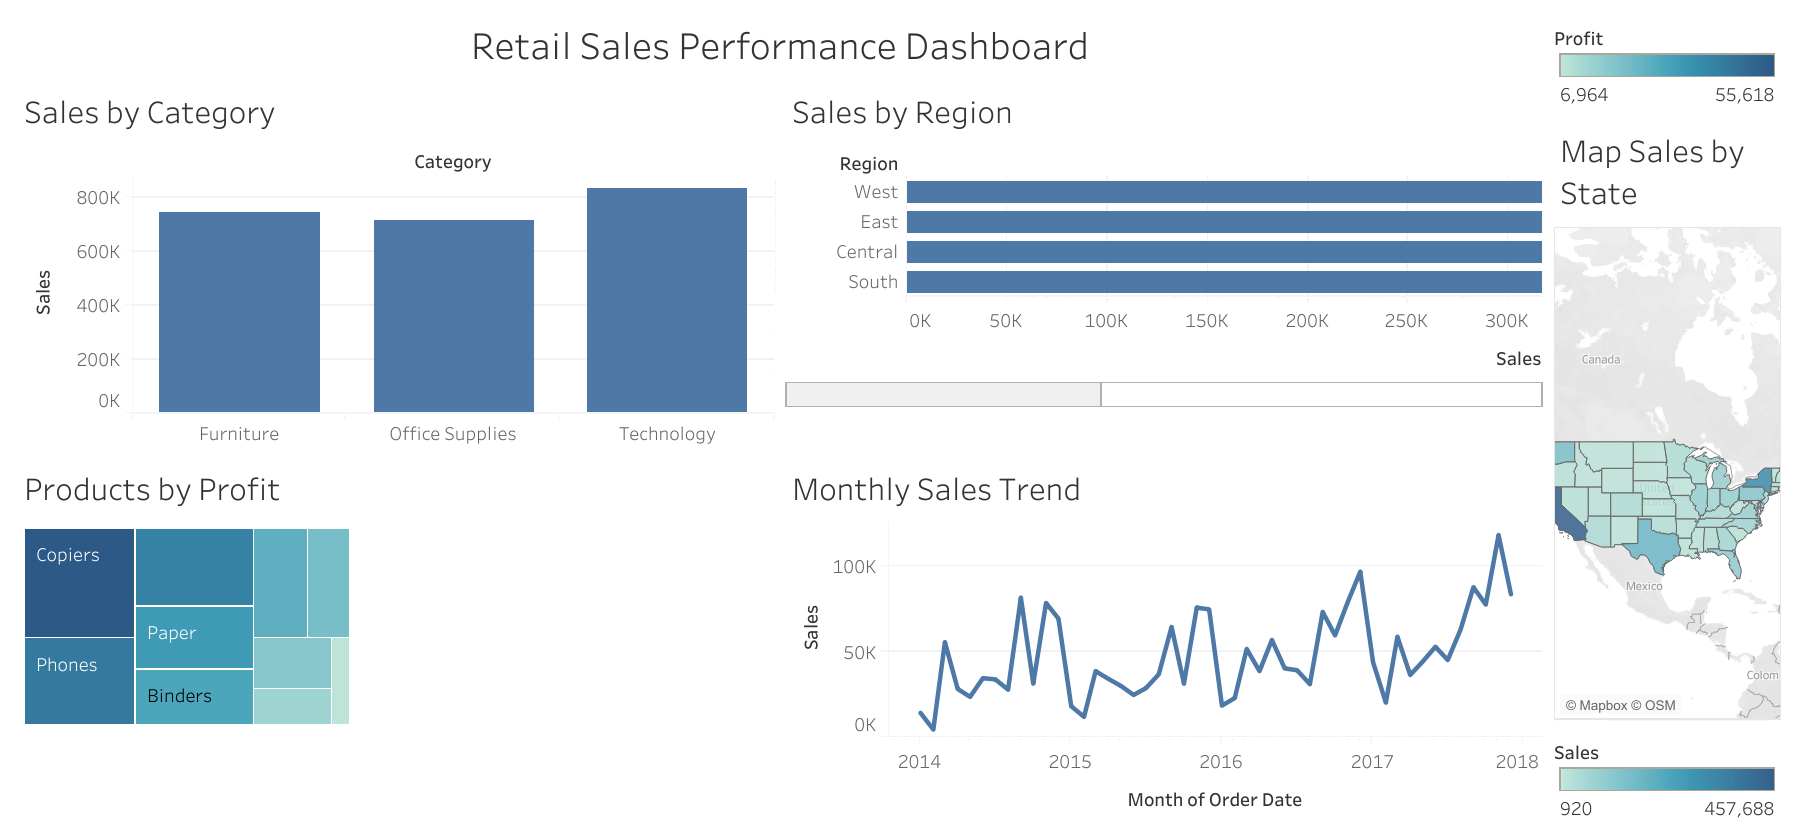

The page's visual inventory and layout, read from the dashboard file:
{"tool":"tableau","page":{"name":"Retail Sales Performance Dashboard","canvas":[1000,1000],"units":"permille","ordinal":0},"visuals":[{"type":"title","box":[6.7,9.8,853.3,70.8]},{"type":"legend","title":"Products by Profit","param":"[federated.0o96z6l1mo016n1f750ro17s1s8z].[sum:profit:qk]","box":[860,9.8,133.3,98.9]},{"type":"worksheet","title":"Sales by Category","mark":"Automatic","rows":["sales"],"cols":["category"],"box":[6.7,80.6,426.7,454.8]},{"type":"worksheet","title":"Sales by Region","mark":"Automatic","rows":["region"],"cols":["sales"],"box":[433.3,80.6,426.7,454.8]},{"type":"worksheet","title":"Map Sales by State","mark":"Automatic","box":[860,108.7,133.3,782.7]},{"type":"worksheet","title":"Products by Profit","mark":"Automatic","box":[6.7,535.4,426.7,373.6]},{"type":"worksheet","title":"Monthly Sales Trend","mark":"Automatic","rows":["sales"],"cols":["order_date"],"box":[433.3,535.4,426.7,454.8]},{"type":"legend","title":"Map Sales by State","param":"[federated.0o96z6l1mo016n1f750ro17s1s8z].[sum:sales:qk]","box":[860,891.3,133.3,98.9]}]}

Visuals, with their boxes on the dashboard's canvas, which has no fixed pixel size, in thousandths of its width and height (x1, y1, x2, y2). These are canvas units, not pixel positions in the 1799x839 screenshot, which may show the page scaled, cropped or inside an application window:
title: {"left": 7, "top": 10, "right": 860, "bottom": 81}
"Products by Profit" legend: {"left": 860, "top": 10, "right": 993, "bottom": 109}
"Sales by Category" worksheet: {"left": 7, "top": 81, "right": 433, "bottom": 535}
"Sales by Region" worksheet: {"left": 433, "top": 81, "right": 860, "bottom": 535}
"Map Sales by State" worksheet: {"left": 860, "top": 109, "right": 993, "bottom": 891}
"Products by Profit" worksheet: {"left": 7, "top": 535, "right": 433, "bottom": 909}
"Monthly Sales Trend" worksheet: {"left": 433, "top": 535, "right": 860, "bottom": 990}
"Map Sales by State" legend: {"left": 860, "top": 891, "right": 993, "bottom": 990}
